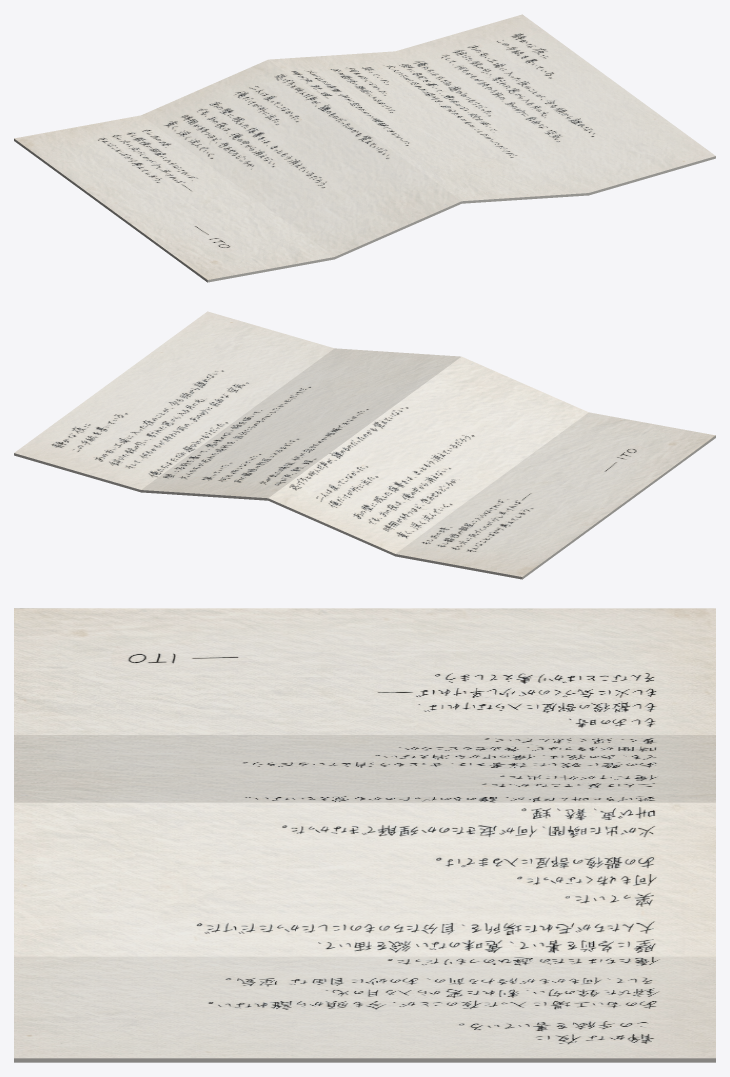
The model's file is Lettre_Ito.fbx.
3 views of the same model, one above another, from view 1: azimuth 30°, elevation 25°; view 2: azimuth 150°, elevation 25°; view 3: azimuth 270°, elevation 25° (orthographic). The views are drawn at different scales.
Parts seen in each view (by area): view 1: Cube; view 2: Cube; view 3: Cube.
Boxes of the visible parts, x1,y1,x2,y2 form: Cube: (14,14,715,282); Cube: (14,311,715,579); Cube: (14,608,715,1062).
Size of the model in its own units: 303 by 15.51 by 200.
